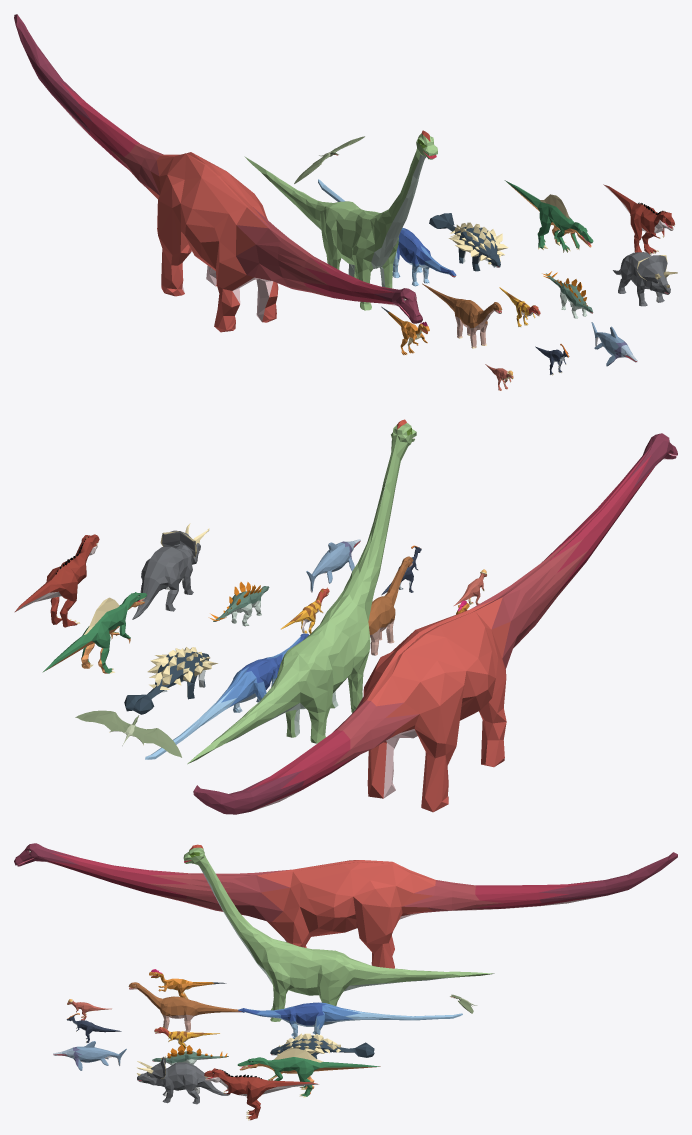
Rendered from Low_Poly_Dinosaurs_Pack.glb.
The picture shows the model from 3 angles, top to bottom: view 1: azimuth 30°, elevation 25°; view 2: azimuth 150°, elevation 25°; view 3: azimuth 270°, elevation 25°; orthographic projection. The views are drawn at different scales.
Parts seen in each view (by area): view 1: unnamed (×11); view 2: unnamed (×12); view 3: unnamed (×12).
Part boxes in pixels (box(x1,y1,x2,y2)): unnamed (×11): box(14, 14, 677, 366); unnamed (×12): box(14, 419, 677, 814); unnamed (×12): box(14, 843, 677, 1120).
Size of what is drawn, in the model's own units: 45.14 by 21.53 by 75.22.
1 material, 1 textured.
